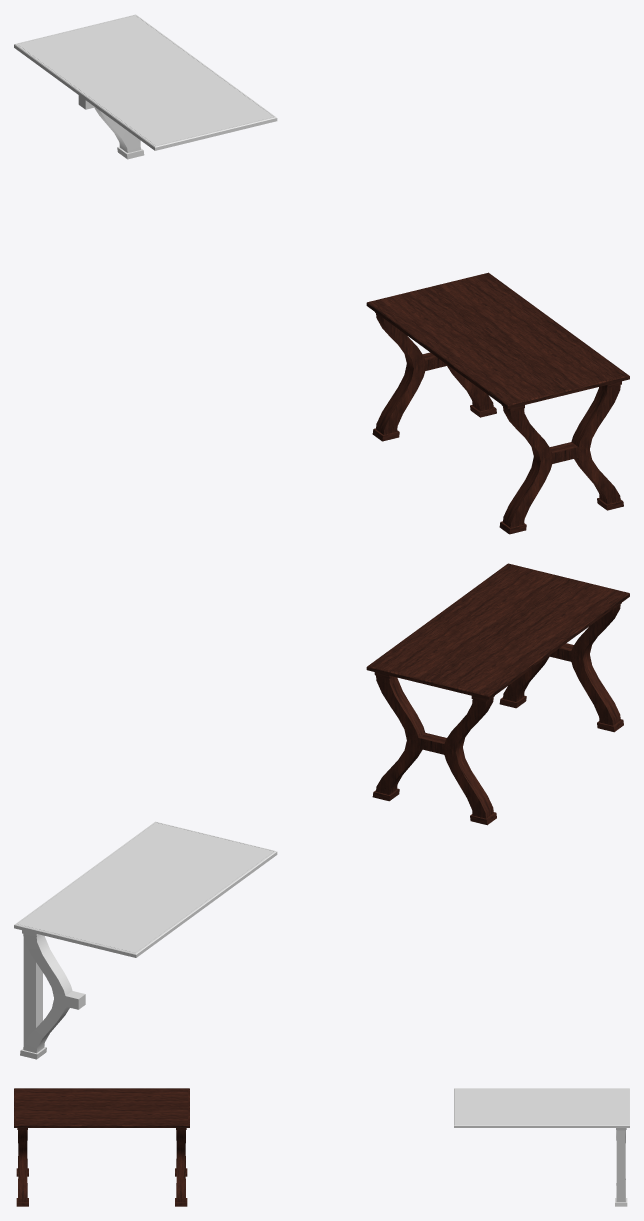
File: table.gltf
The picture shows the model from 3 angles, top to bottom: view 1: azimuth 30°, elevation 25°; view 2: azimuth 150°, elevation 25°; view 3: azimuth 270°, elevation 25°; orthographic projection. The views are drawn at different scales.
Parts seen in each view (by area): view 1: Curvy Legs.001, Table Top, Curvy Legs; view 2: Curvy Legs.001, Table Top, Curvy Legs, Blank Legs; view 3: Curvy Legs.001, Table Top, Blank Legs.
Part boxes in pixels (x1,y1,x2,y2): Curvy Legs.001: (366,272,629,534); Table Top: (14,14,277,150); Curvy Legs: (78,95,144,159); Curvy Legs.001: (366,563,629,825); Table Top: (14,821,277,957); Curvy Legs: (20,930,85,1059); Blank Legs: (23,939,42,1044); Curvy Legs.001: (14,1088,189,1206); Table Top: (454,1088,629,1127); Blank Legs: (616,1130,625,1201).
Size of the model in its own units: 1 by 1.03 by 7.
1 material, 1 textured.
